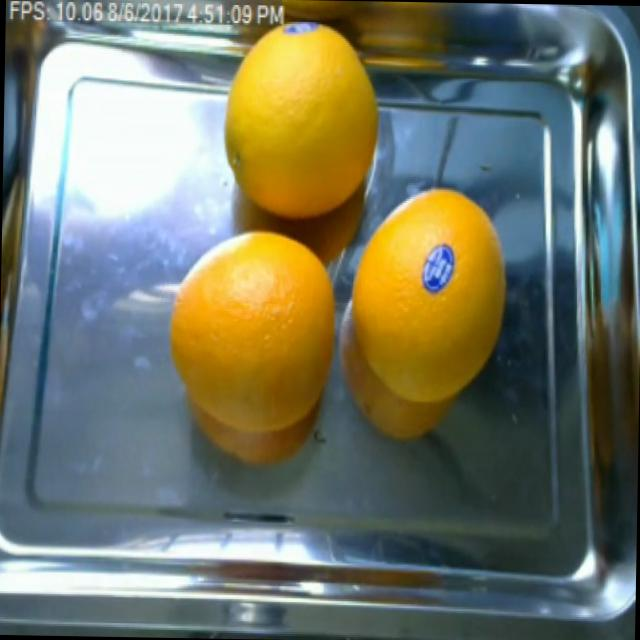Fruit: (202, 2, 384, 224), (330, 270, 500, 452), (417, 236, 460, 301)
